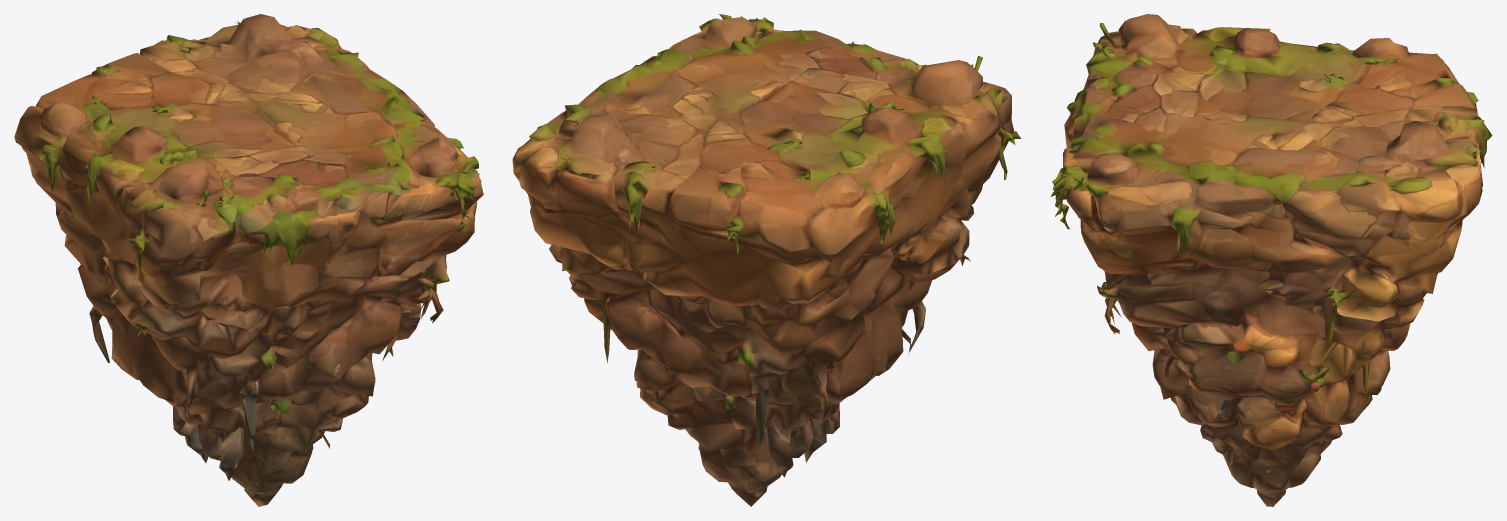
File: island-underside.glb
The picture shows the model from 3 angles, left to right: view 1: azimuth 30°, elevation 25°; view 2: azimuth 150°, elevation 25°; view 3: azimuth 270°, elevation 25°; orthographic projection. The views are drawn at different scales.
Visible parts, largest first — view 1: tripo_node_7f8c48cf-df90-4d5a-a48b-3e9d399da6f0; view 2: tripo_node_7f8c48cf-df90-4d5a-a48b-3e9d399da6f0; view 3: tripo_node_7f8c48cf-df90-4d5a-a48b-3e9d399da6f0.
Boxes of the visible parts, x1,y1,x2,y2 form: tripo_node_7f8c48cf-df90-4d5a-a48b-3e9d399da6f0: (14, 14, 483, 506); tripo_node_7f8c48cf-df90-4d5a-a48b-3e9d399da6f0: (512, 14, 1020, 506); tripo_node_7f8c48cf-df90-4d5a-a48b-3e9d399da6f0: (1050, 14, 1492, 506).
Bounding box in the file's own units: 0.8944 × 0.9769 × 0.9237.
Materials: 1 (1 with a texture image).
